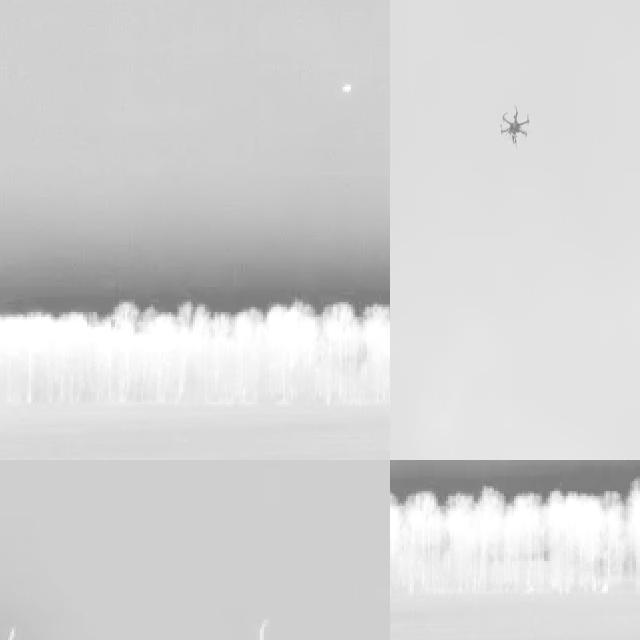1: (337, 77, 363, 105)
drone: (497, 105, 534, 147)
